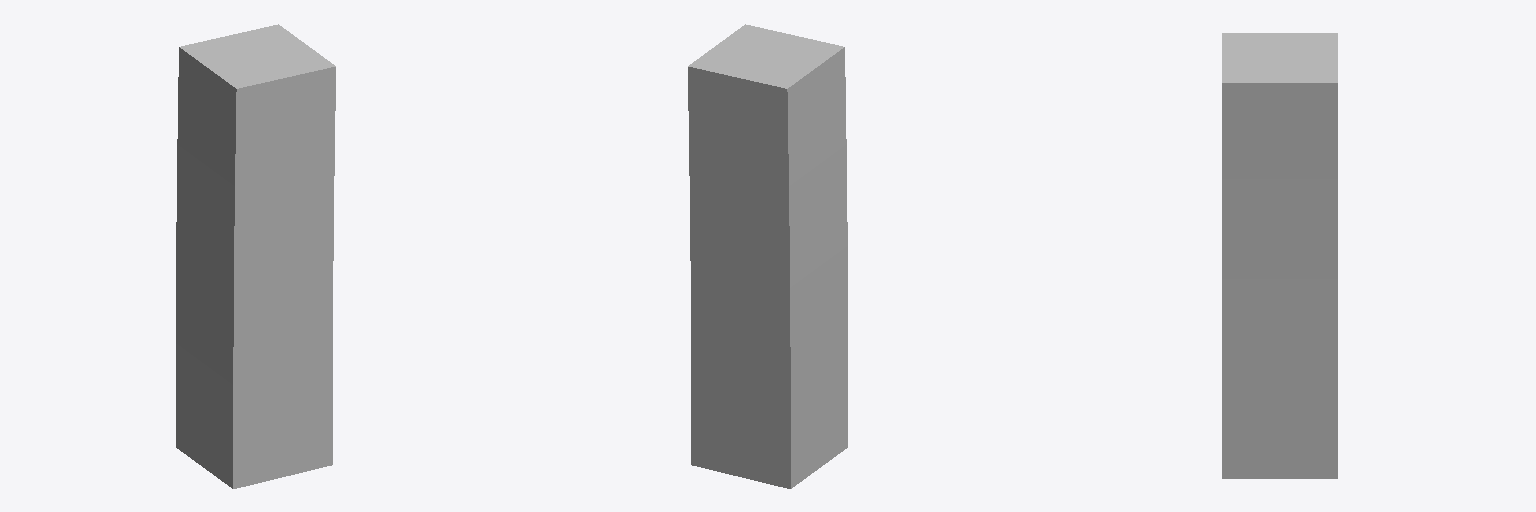
Rendered from Animation_000002.obj.
The picture shows the model from 3 angles: view 1: azimuth 30°, elevation 25°; view 2: azimuth 150°, elevation 25°; view 3: azimuth 270°, elevation 25°; orthographic projection.
Visible parts, largest first — view 1: Cube; view 2: Cube; view 3: Cube.
Boxes of the visible parts, x1=… form: Cube: x1=176, y1=24, x2=335, y2=488; Cube: x1=688, y1=24, x2=847, y2=488; Cube: x1=1222, y1=33, x2=1337, y2=478.
Bounding box in the file's own units: 1.37 × 5.1 × 1.33.